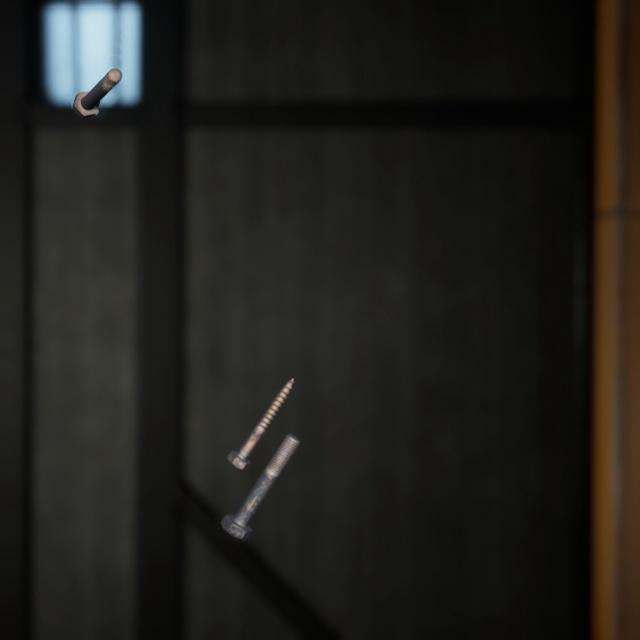bolt: (216, 407, 304, 522), (222, 352, 299, 454), (68, 52, 126, 111)
